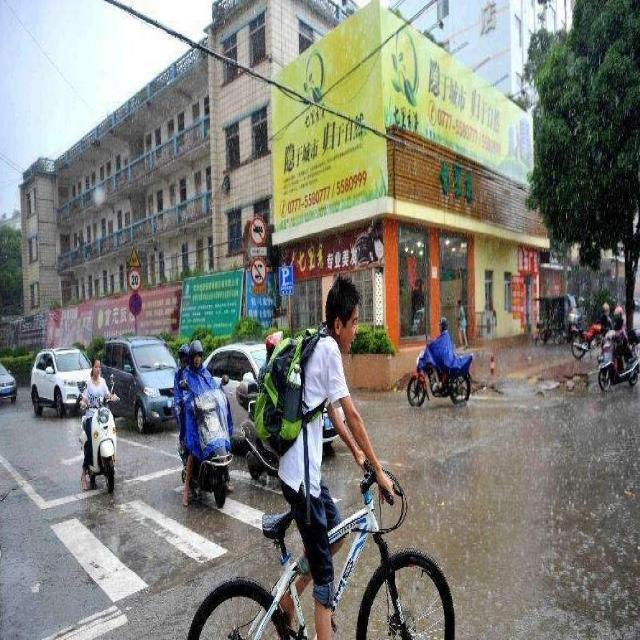car: (196, 344, 348, 447), (94, 335, 183, 428), (29, 348, 97, 416), (0, 360, 17, 402)
